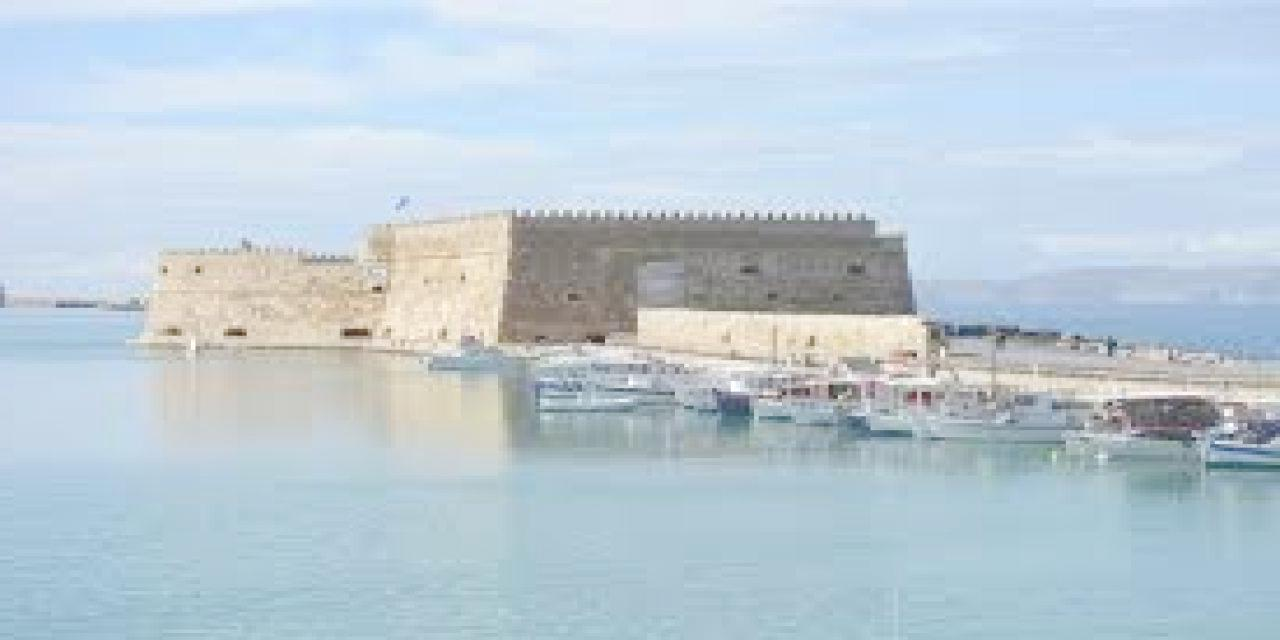Kules: (121, 200, 920, 355)
